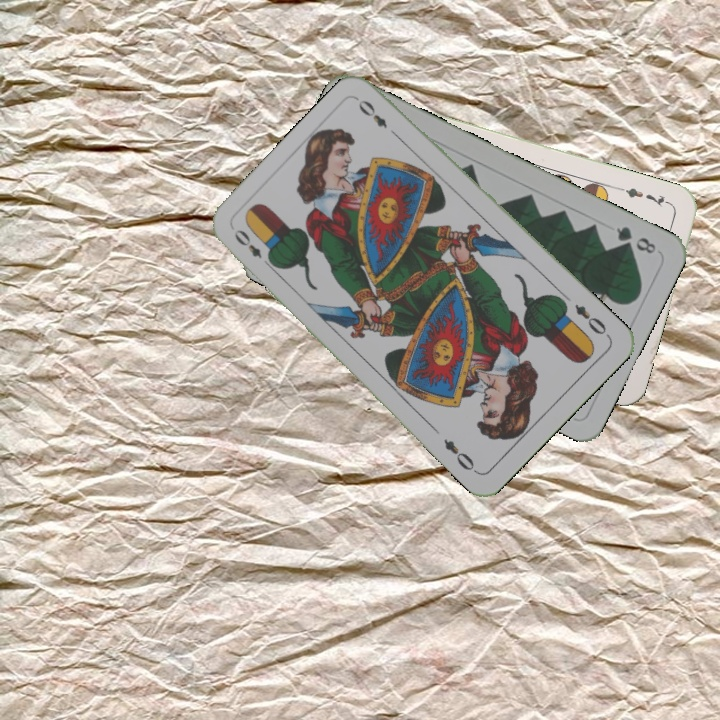E7: (615, 183, 673, 210)
EO: (230, 225, 276, 271), (570, 300, 613, 340)
G8: (612, 222, 659, 257)
